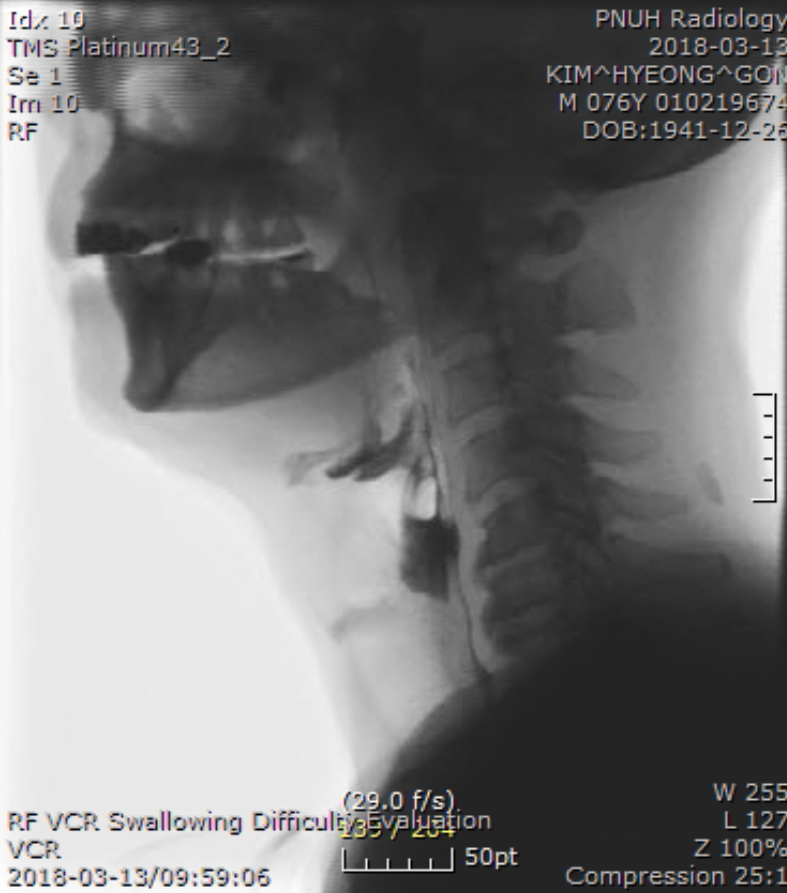dros: (414, 527, 472, 607)
food: (324, 398, 464, 601)
uros: (314, 434, 395, 498)
